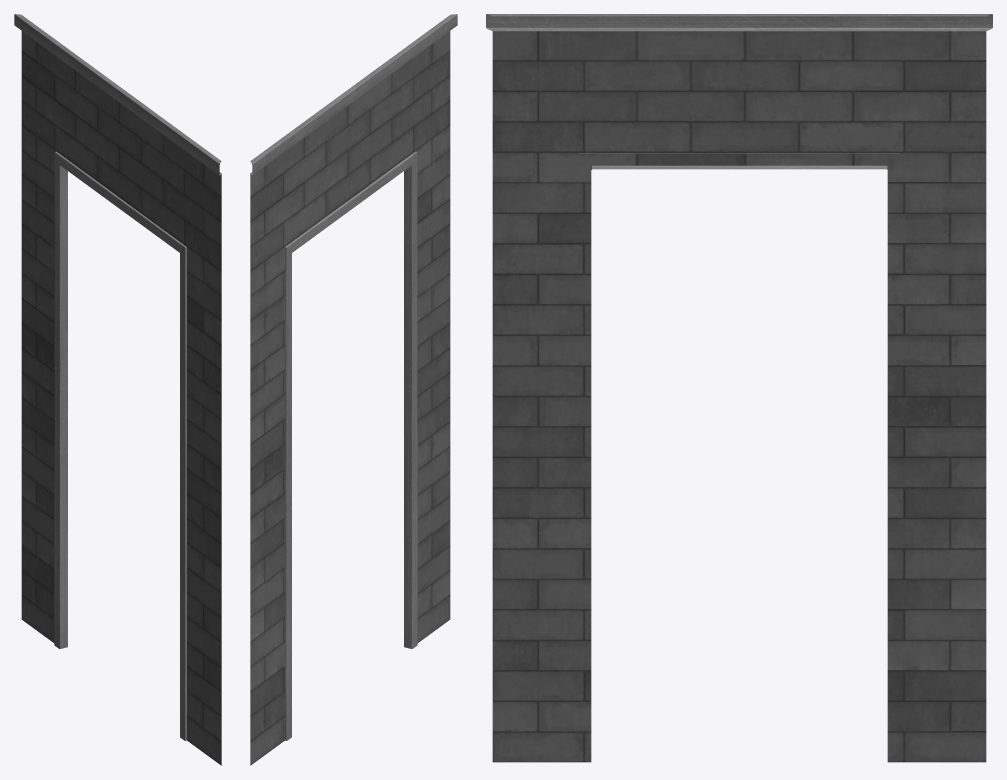
File: SM_Mid_150_Door.fbx
3 views of the same model, side by side, from view 1: azimuth 30°, elevation 25°; view 2: azimuth 150°, elevation 25°; view 3: azimuth 270°, elevation 25° (orthographic). The views are drawn at different scales.
Parts seen in each view (by area): view 1: SM_Mid_150_Door_LOD0; view 2: SM_Mid_150_Door_LOD0; view 3: SM_Mid_150_Door_LOD0.
Part boxes in pixels (box(x1,y1,x2,y2)): SM_Mid_150_Door_LOD0: box(14, 14, 221, 765); SM_Mid_150_Door_LOD0: box(250, 14, 457, 765); SM_Mid_150_Door_LOD0: box(486, 14, 992, 762).
Size of the model in its own units: 4.73 by 154 by 250.
